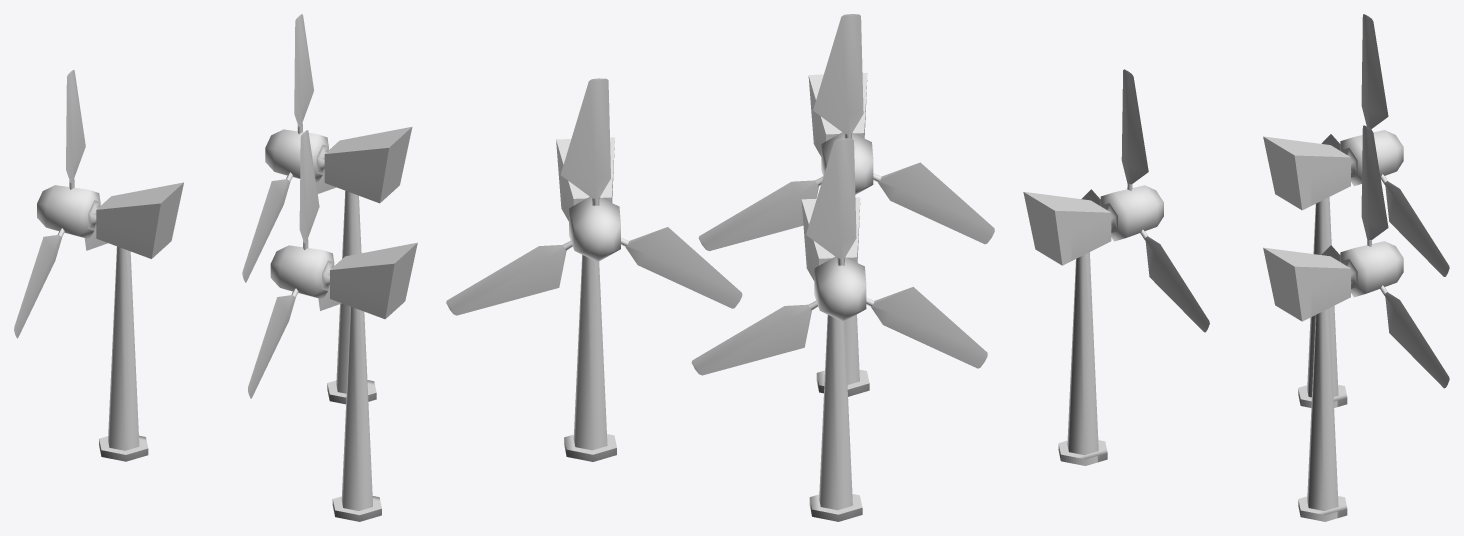
Rendered from Windfarm.FBX.
The picture shows the model from 3 angles, left to right: view 1: azimuth 30°, elevation 25°; view 2: azimuth 150°, elevation 25°; view 3: azimuth 270°, elevation 25°; orthographic projection. The views are drawn at different scales.
Parts seen in each view (by area): view 1: Cylinder029, Cylinder028, Cylinder027; view 2: Cylinder028, Cylinder027, Cylinder029; view 3: Cylinder027, Cylinder029, Cylinder028.
Boxes of the visible parts, x1,y1,x2,y2 form: Cylinder029: [248, 130, 417, 521]; Cylinder028: [14, 70, 183, 461]; Cylinder027: [242, 14, 412, 404]; Cylinder028: [691, 138, 987, 521]; Cylinder027: [446, 78, 742, 461]; Cylinder029: [698, 14, 994, 396]; Cylinder027: [1263, 125, 1449, 521]; Cylinder029: [1023, 69, 1209, 465]; Cylinder028: [1263, 14, 1449, 407].
Size of the model in its own units: 106 by 87.83 by 92.06.
